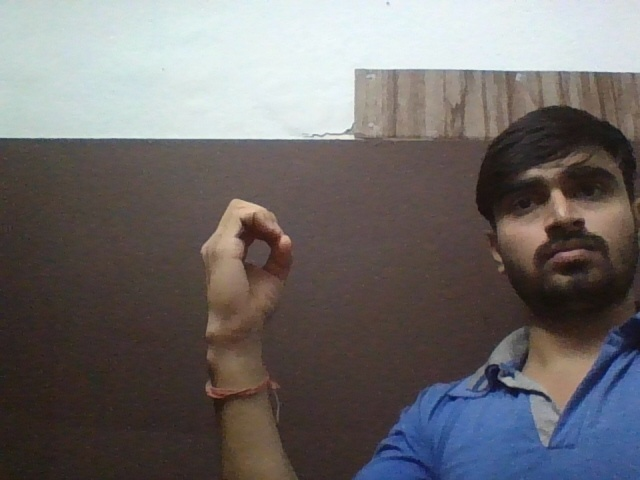O: (190, 192, 319, 364)
